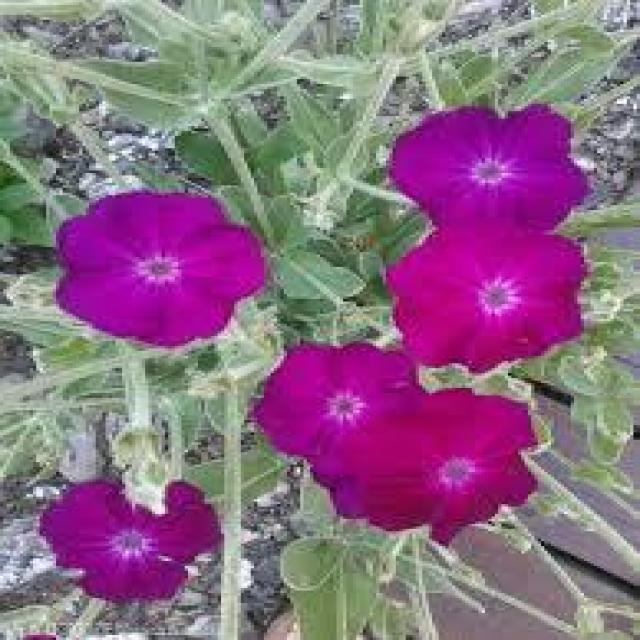organic waste: (53, 183, 267, 341), (346, 376, 538, 544), (381, 220, 595, 366), (256, 351, 447, 492), (401, 103, 595, 236), (49, 473, 228, 604)
